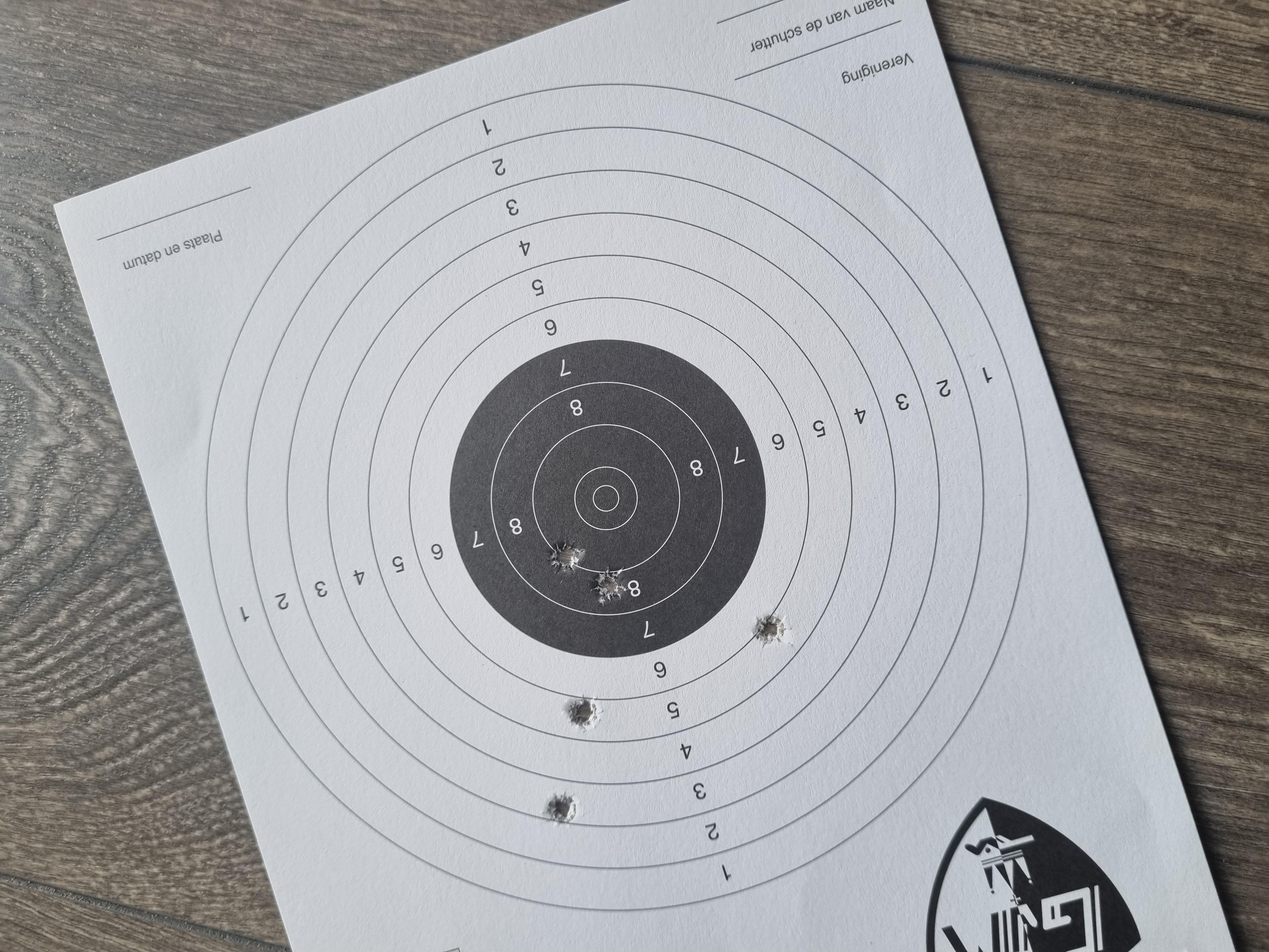hole: (463, 443, 514, 471), (295, 423, 344, 452), (167, 408, 214, 434), (507, 413, 547, 439), (409, 564, 448, 589)
